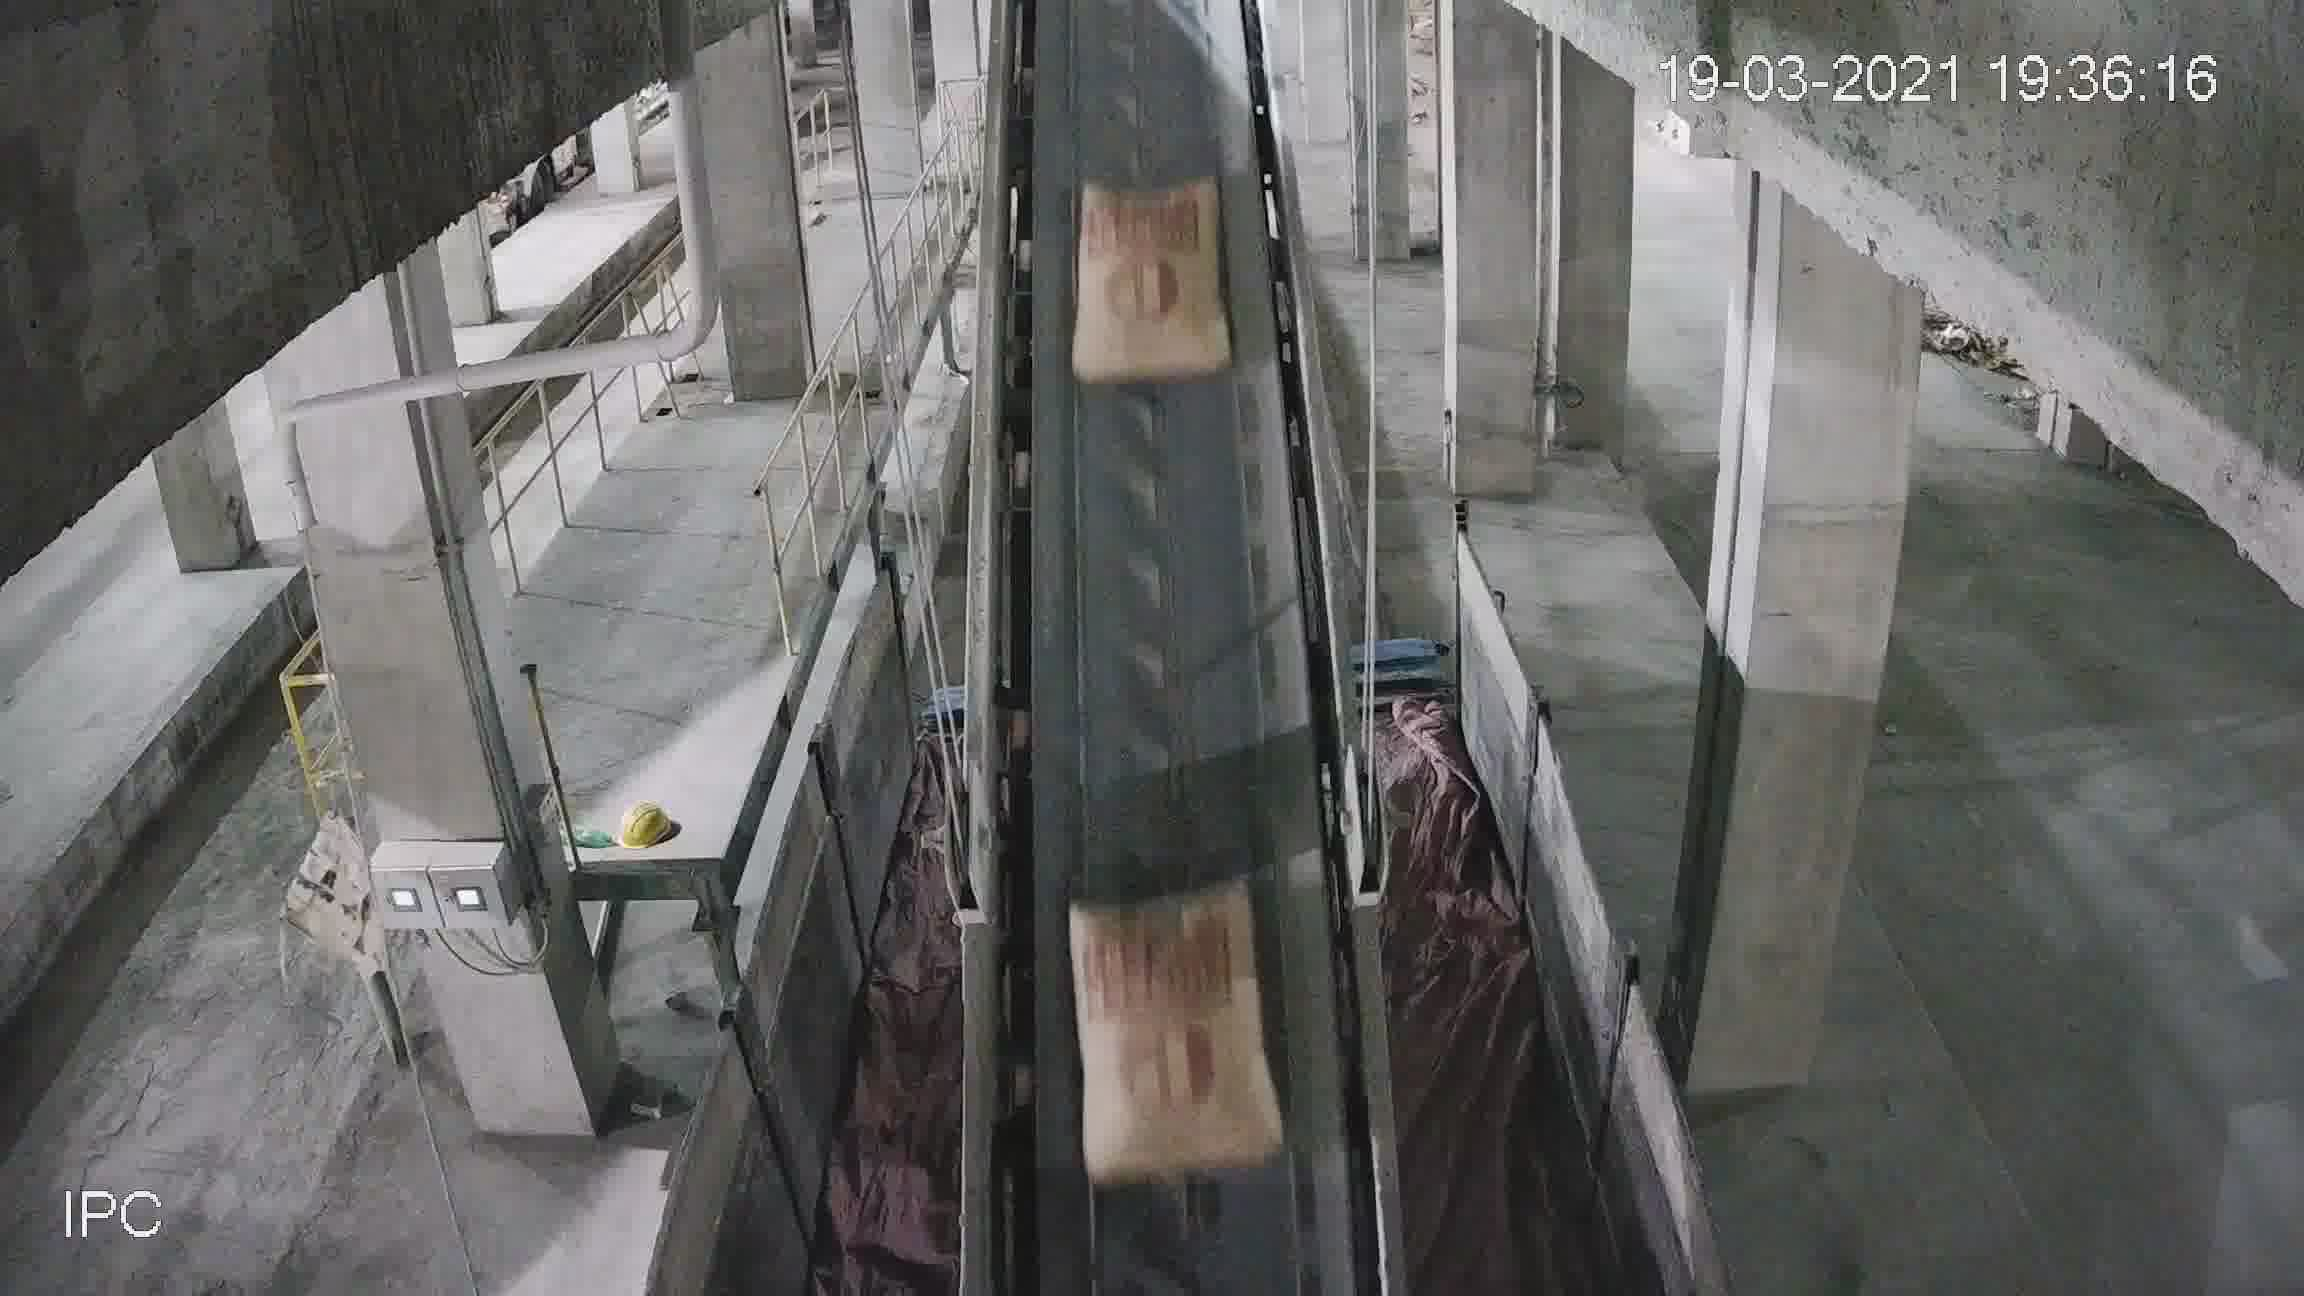bag: (1078, 881, 1264, 1176), (1078, 176, 1225, 377)
belt: (970, 21, 1389, 1211)
